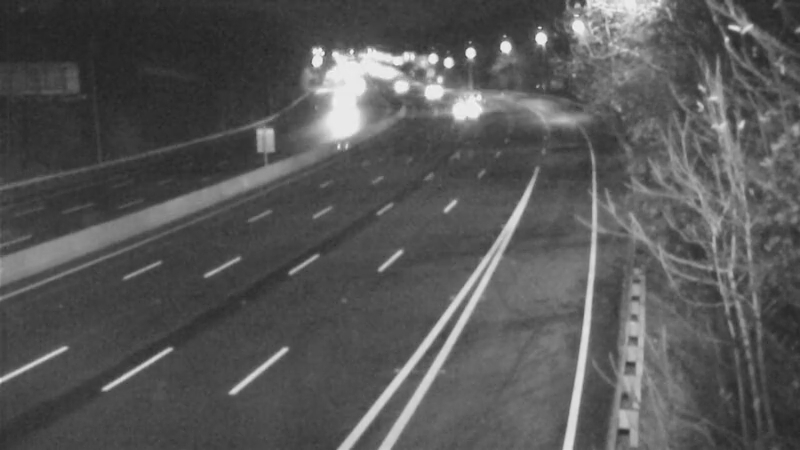vehicle: (456, 77, 506, 127), (430, 92, 480, 142)
